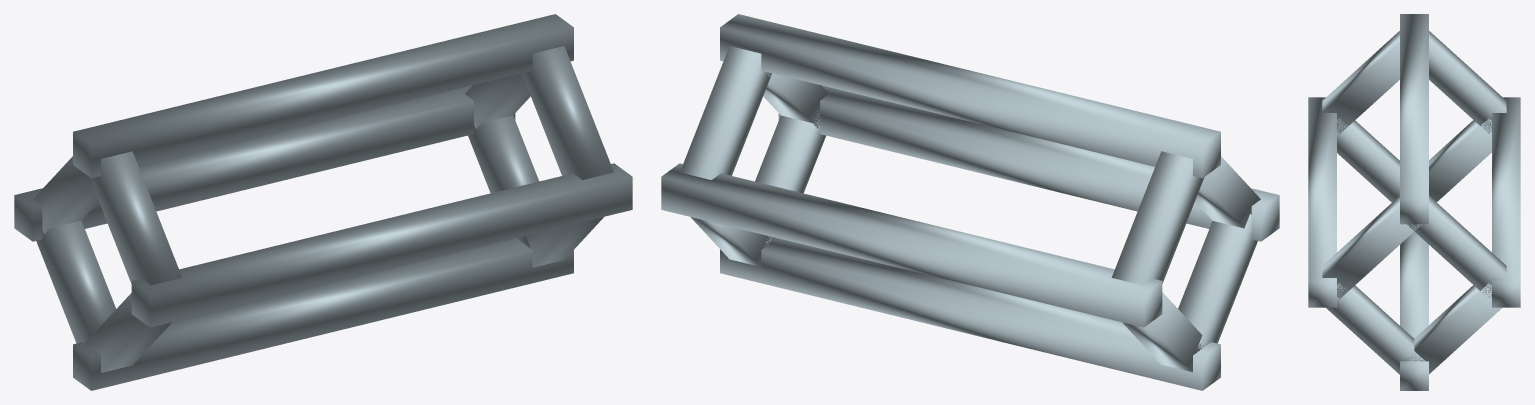
Rendered from turret.glb.
3 renders of one model, left to right at view 1: azimuth 30°, elevation 25°; view 2: azimuth 150°, elevation 25°; view 3: azimuth 270°, elevation 25°, orthographic. The views are drawn at different scales.
Parts seen in each view (by area): view 1: Cube.005; view 2: Cube.005; view 3: Cube.005.
Part boxes in pixels (bbox=[...]): Cube.005: bbox=[14, 14, 632, 390]; Cube.005: bbox=[661, 14, 1279, 390]; Cube.005: bbox=[1308, 14, 1520, 390].
Size of the model in its own units: 38 by 18.5 by 18.5.
